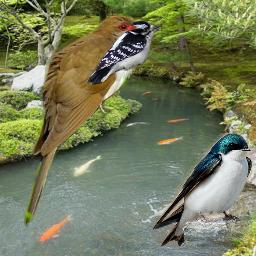Cuckoo: (24, 12, 155, 231)
Swallow: (152, 133, 252, 247)
Woodpecker: (85, 21, 161, 85)
